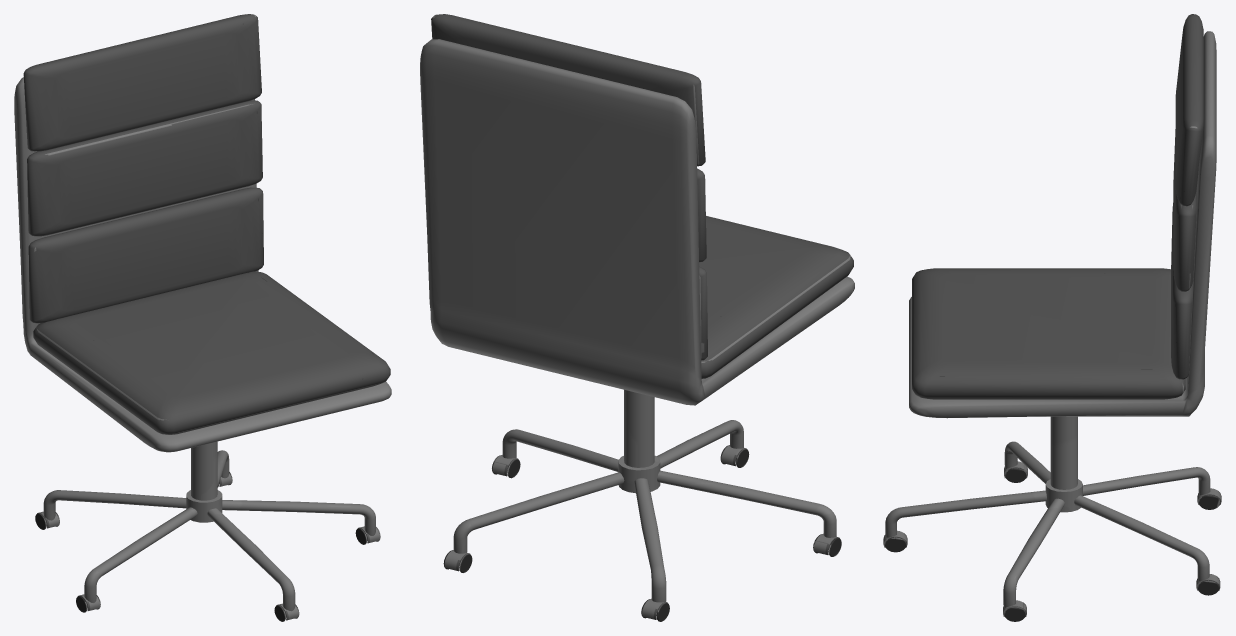
The model's file is Silla escritorio.fbx.
3 renders of one model, left to right at view 1: azimuth 30°, elevation 25°; view 2: azimuth 150°, elevation 25°; view 3: azimuth 270°, elevation 25°, orthographic. The views are drawn at different scales.
Visible parts, largest first — view 1: eje; view 2: eje; view 3: eje.
Boxes of the visible parts, <box> form: eje: <box>14,14,391,621</box>; eje: <box>420,14,854,621</box>; eje: <box>883,14,1221,621</box>.
Bounding box in the file's own units: 74.33 × 114 × 72.59.
